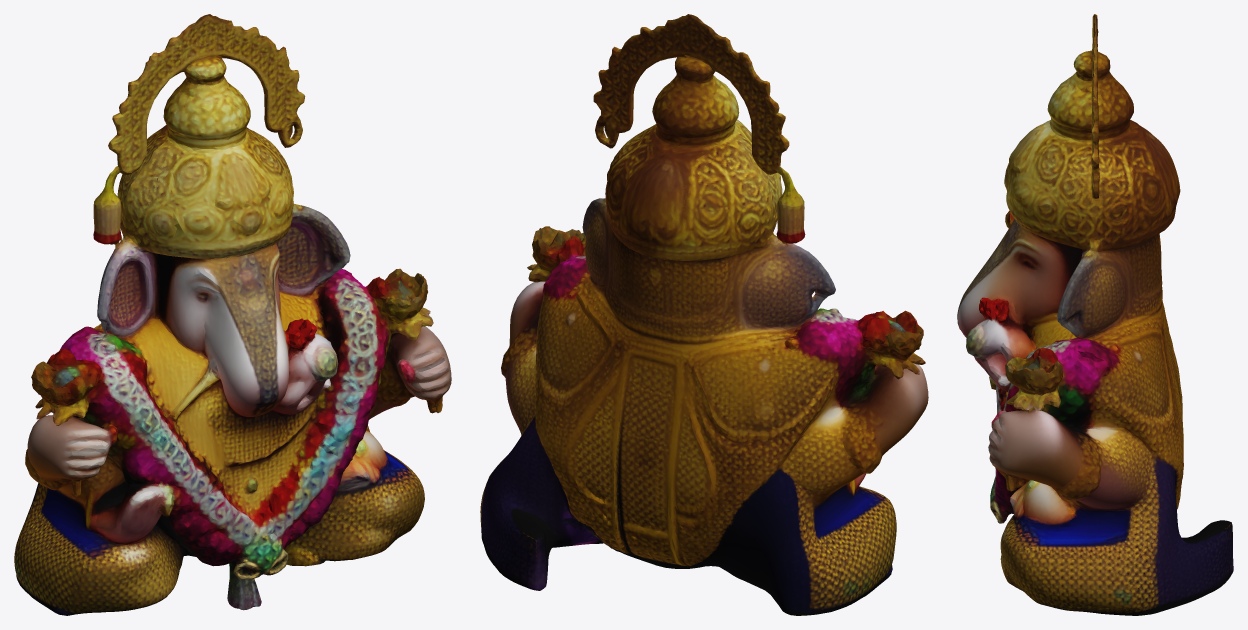
The model's file is dgt.glb.
The picture shows the model from 3 angles, left to right: view 1: azimuth 30°, elevation 25°; view 2: azimuth 150°, elevation 25°; view 3: azimuth 270°, elevation 25°; orthographic projection. The views are drawn at different scales.
Parts seen in each view (by area): view 1: mesh; view 2: mesh; view 3: mesh.
Boxes of the visible parts, x1=… form: mesh: x1=14, y1=14, x2=451, y2=615; mesh: x1=480, y1=14, x2=928, y2=615; mesh: x1=957, y1=14, x2=1233, y2=615.
Size of the model in its own units: 0.7461 by 1 by 0.4656.
Materials: 1 (1 with a texture image).
